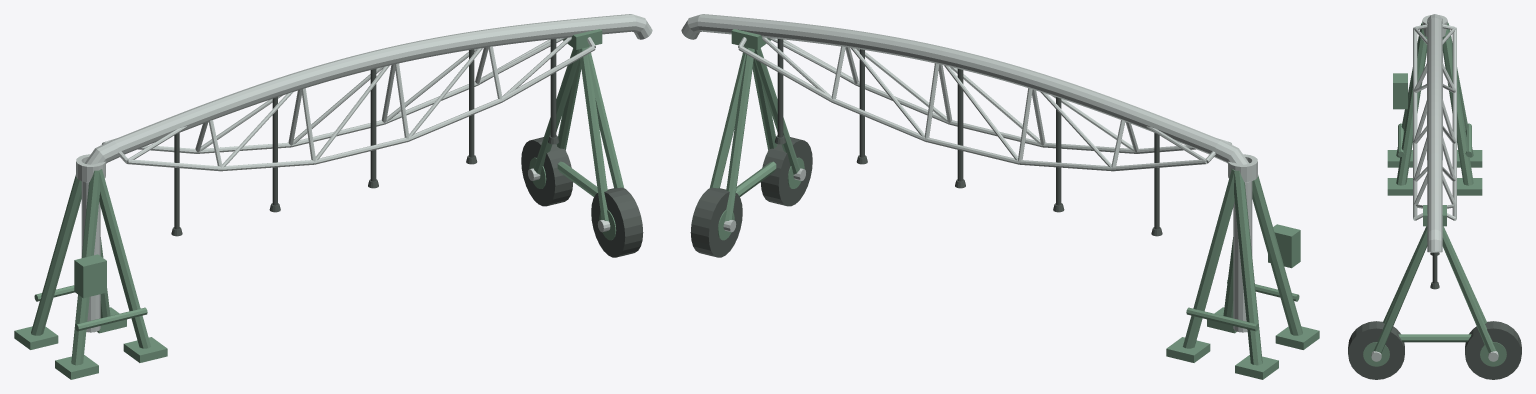
The picture shows the model from 3 angles, left to right: view 1: azimuth 30°, elevation 25°; view 2: azimuth 150°, elevation 25°; view 3: azimuth 270°, elevation 25°; orthographic projection. The views are drawn at different scales.
Visible parts, largest first — view 1: WholeArchedPipeSpanAndDownturnedOuterEnd, NearWholeLowerSpanChord, WholeTowerTyre0, WholeTowerTyre1, WholePivotSlopingLeg01, WholePivotSlopingLeg10, WholePivotSlopingLeg00, FarWholeLowerSpanChord, LeftWholeTowerDiagonalLeg0, WholeHollowUprightAndUpperElbow, WholeBlankPivotSideControlCase, RightWholeTowerDiagonalLeg0 (+12 smaller); view 2: WholeArchedPipeSpanAndDownturnedOuterEnd, FarWholeLowerSpanChord, WholeTowerTyre1, WholePivotSlopingLeg01, WholeTowerTyre0, WholePivotSlopingLeg00, WholePivotSlopingLeg11, WholeHollowUprightAndUpperElbow, NearWholeLowerSpanChord, LeftWholeTowerDiagonalLeg1, RightWholeTowerDiagonalLeg1, LeftWholeTowerDiagonalLeg0 (+12 smaller); view 3: WholeArchedPipeSpanAndDownturnedOuterEnd, WholeTowerTyre0, WholeTowerTyre1, WholePivotSlopingLeg10, WholePivotSlopingLeg11, RightWholeTowerDiagonalLeg0, RightWholeTowerDiagonalLeg1, NearWholeLowerSpanChord, FarWholeLowerSpanChord, WholeTowerLowTandemTie, WholeBlankPivotSideControlCase, WholePivotFoot10 (+19 smaller).
Part boxes in pixels (x1,y1,x2,y2): WholeArchedPipeSpanAndDownturnedOuterEnd: (112, 14, 652, 154); NearWholeLowerSpanChord: (126, 45, 595, 171); WholeTowerTyre0: (591, 187, 643, 257); WholeTowerTyre1: (521, 137, 573, 206); WholePivotSlopingLeg01: (31, 163, 84, 335); WholePivotSlopingLeg10: (99, 169, 150, 348); WholePivotSlopingLeg00: (71, 170, 99, 365); FarWholeLowerSpanChord: (104, 39, 550, 153); LeftWholeTowerDiagonalLeg0: (579, 48, 608, 221); WholeHollowUprightAndUpperElbow: (81, 140, 119, 332); WholeBlankPivotSideControlCase: (74, 254, 106, 298); RightWholeTowerDiagonalLeg0: (586, 47, 623, 188); WholeArchedPipeSpanAndDownturnedOuterEnd: (681, 14, 1221, 154); FarWholeLowerSpanChord: (738, 45, 1207, 171); WholeTowerTyre1: (690, 187, 742, 257); WholePivotSlopingLeg01: (1234, 170, 1262, 365); WholeTowerTyre0: (760, 137, 812, 206); WholePivotSlopingLeg00: (1249, 163, 1302, 335); WholePivotSlopingLeg11: (1183, 169, 1234, 348); WholeHollowUprightAndUpperElbow: (1214, 140, 1252, 332); NearWholeLowerSpanChord: (783, 39, 1229, 153); LeftWholeTowerDiagonalLeg1: (725, 48, 754, 221); RightWholeTowerDiagonalLeg1: (710, 47, 747, 188); LeftWholeTowerDiagonalLeg0: (754, 48, 800, 174); WholeArchedPipeSpanAndDownturnedOuterEnd: (1427, 17, 1442, 252); WholeTowerTyre0: (1348, 321, 1404, 379); WholeTowerTyre1: (1465, 321, 1521, 379); WholePivotSlopingLeg10: (1396, 23, 1427, 185); WholePivotSlopingLeg11: (1442, 23, 1473, 185); RightWholeTowerDiagonalLeg0: (1373, 226, 1427, 353); RightWholeTowerDiagonalLeg1: (1442, 226, 1496, 353); NearWholeLowerSpanChord: (1413, 27, 1417, 220); FarWholeLowerSpanChord: (1452, 27, 1456, 220); WholeTowerLowTandemTie: (1398, 334, 1471, 342); WholeBlankPivotSideControlCase: (1393, 73, 1407, 109); WholePivotFoot10: (1387, 178, 1412, 195).
Bounding box in the file's own units: 7.43 × 2.64 × 2.2.
